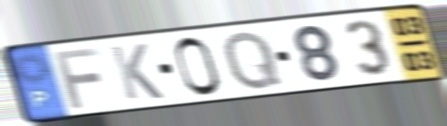0: (172, 34, 224, 98)
3: (342, 18, 393, 78)
8: (292, 23, 342, 84)
F: (51, 45, 103, 111)
K: (107, 42, 166, 102)
Q: (221, 28, 286, 93)
